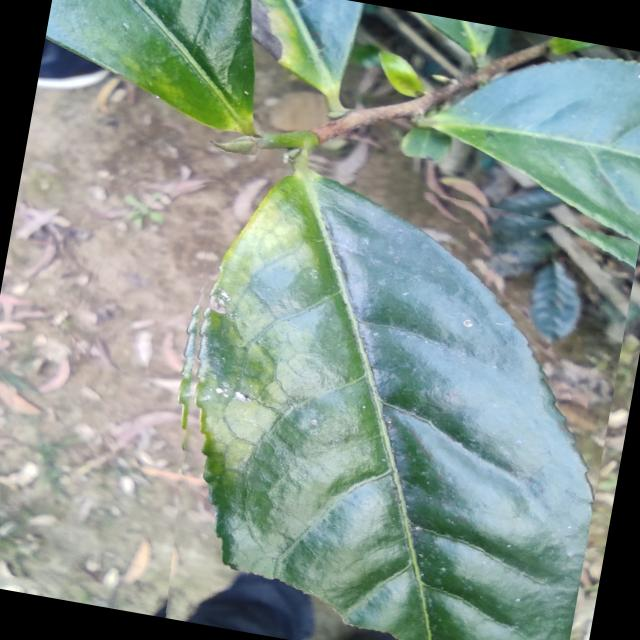Category D(7+ days, Not for Tea): (133, 141, 640, 640)
